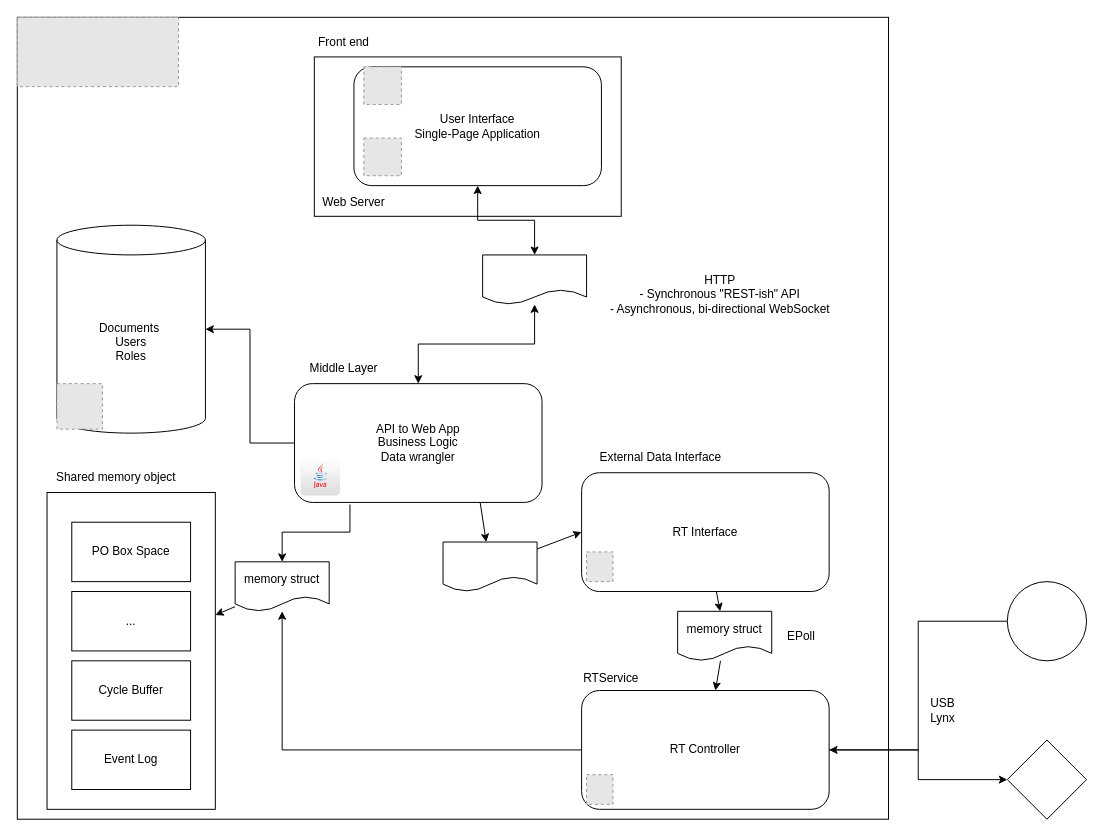
The diagram is 1104 pixels wide and 837 high, and some of its shapes have lost their labels. Grey dashed boxes stand in for pictures. The shapes that lost their labels are listed below. From the top down, each one's centre as x and y in pixels, then its label:
At (x=534, y=279): "JSON".
At (x=489, y=566): "protobuf".
At (x=1046, y=621): "Pressure Sensor".
At (x=1046, y=779): "Output Relay".
